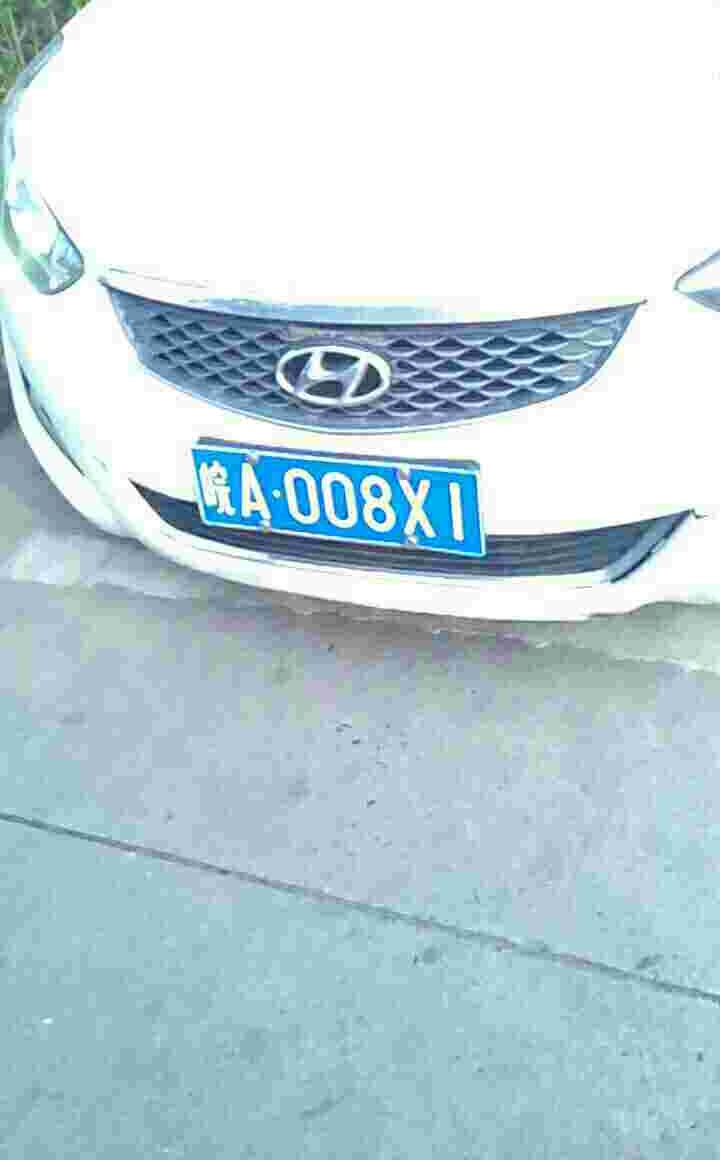license_plate: (187, 445, 473, 561)
